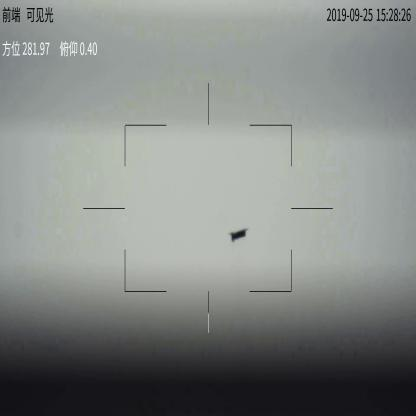uav: (230, 227, 248, 242)
